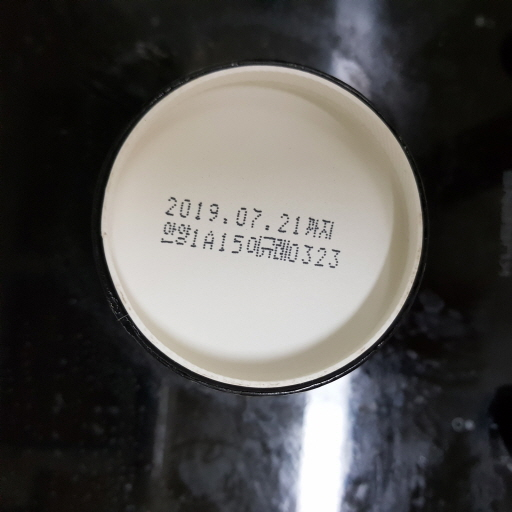Paper_1: (95, 63, 425, 398)
